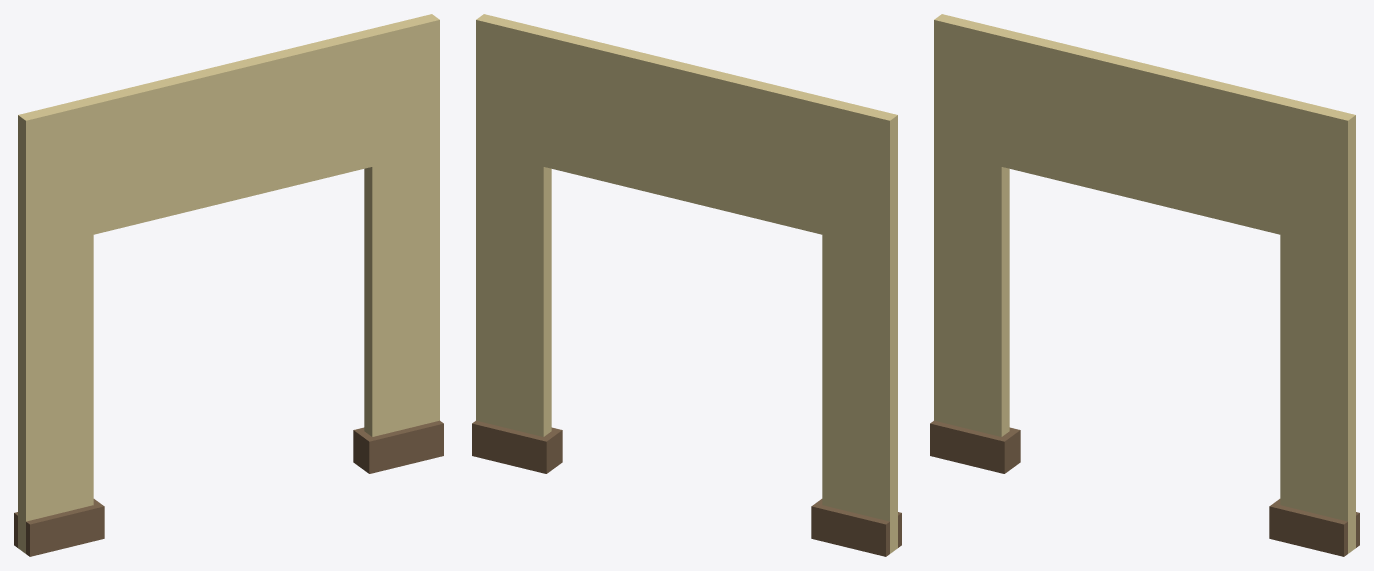
Rendered from Mesh_WallBaseboard_I5.fbx.
3 renders of one model, left to right at view 1: azimuth 30°, elevation 25°; view 2: azimuth 150°, elevation 25°; view 3: azimuth 330°, elevation 25°, orthographic.
Visible parts, largest first — view 1: Mesh_WallBaseboard_I5; view 2: Mesh_WallBaseboard_I5; view 3: Mesh_WallBaseboard_I5.
Boxes of the visible parts, left/top/right/bottom form: Mesh_WallBaseboard_I5: left=14, top=14, right=443, bottom=556; Mesh_WallBaseboard_I5: left=472, top=14, right=901, bottom=556; Mesh_WallBaseboard_I5: left=930, top=14, right=1359, bottom=556.
Bounding box in the file's own units: 3 × 3 × 0.2.
